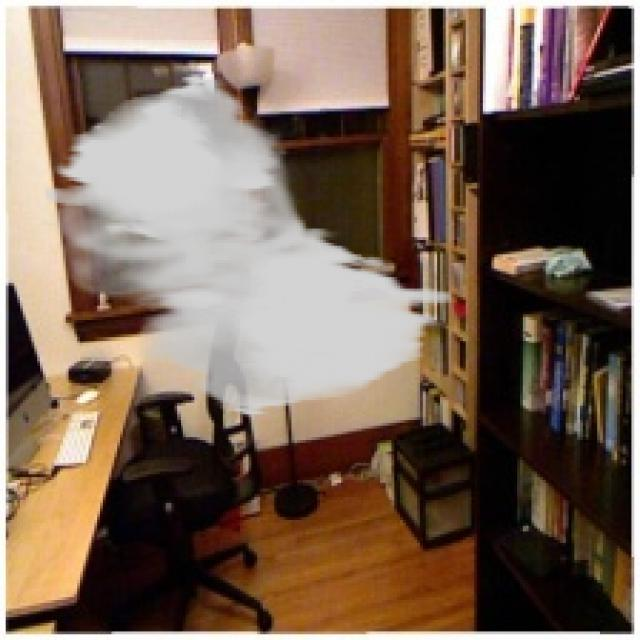smoke: (43, 72, 451, 417)
